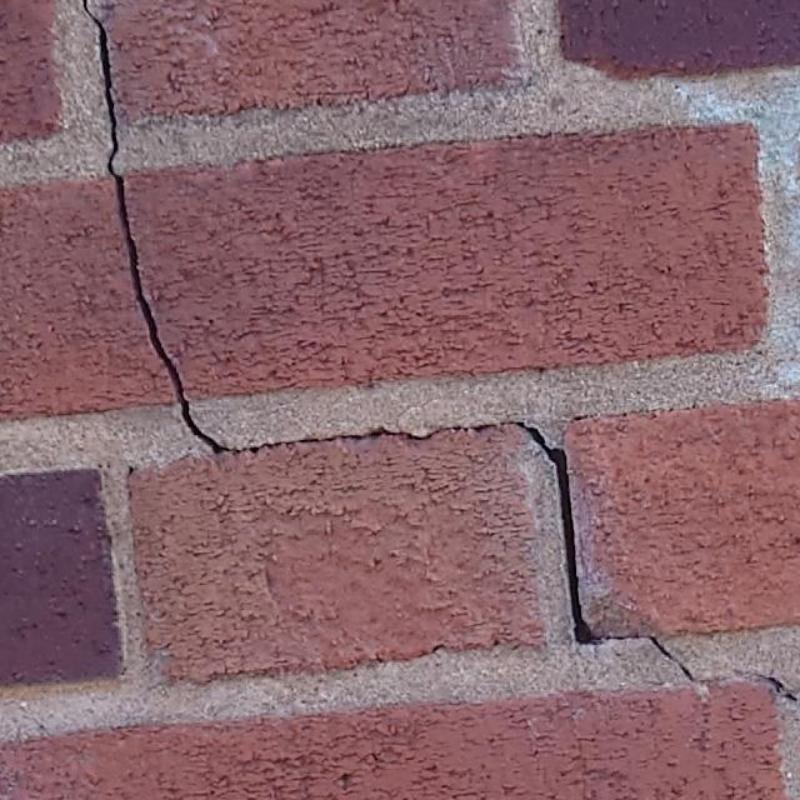crack: (82, 0, 219, 448), (523, 423, 657, 644), (212, 419, 522, 455), (650, 638, 696, 682), (755, 672, 799, 704)
